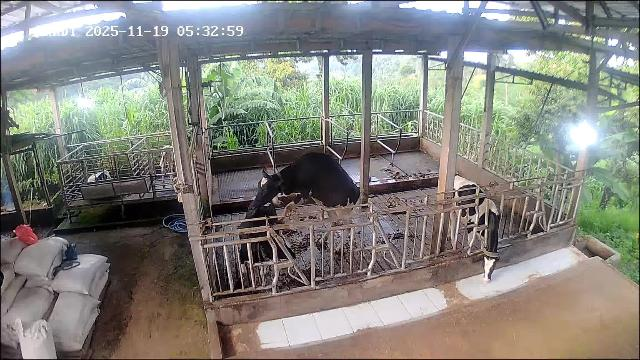mounting: (248, 151, 361, 245)
